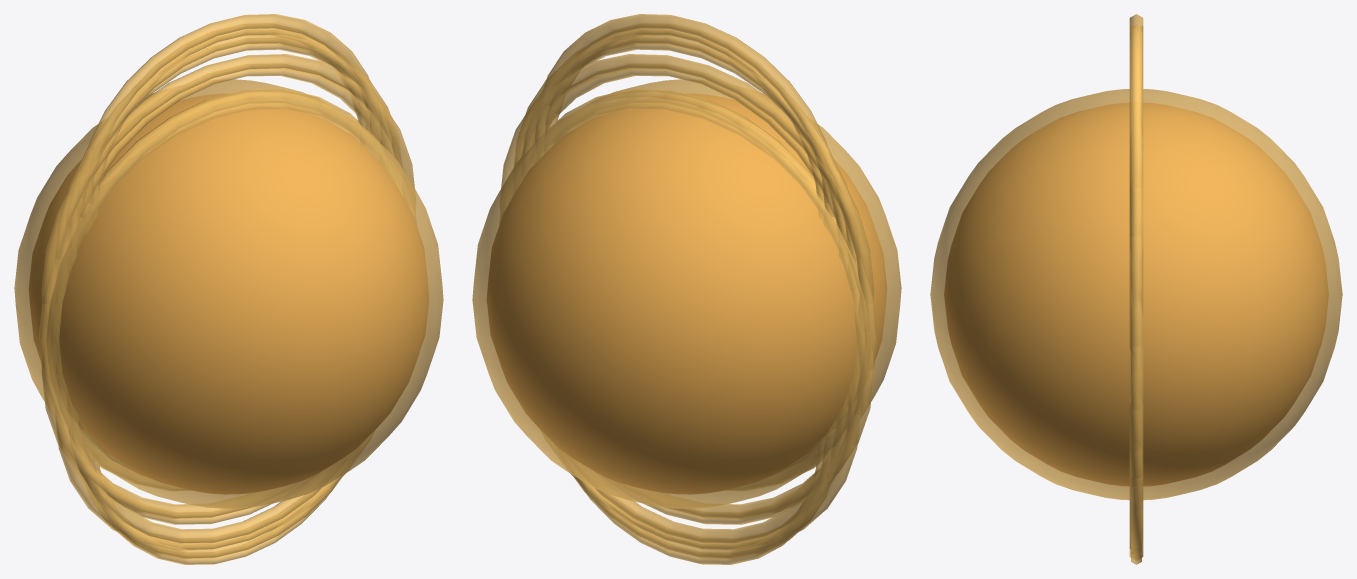
File: Venus.glb
3 renders of one model, left to right at view 1: azimuth 30°, elevation 25°; view 2: azimuth 150°, elevation 25°; view 3: azimuth 270°, elevation 25°, orthographic. The views are drawn at different scales.
Parts seen in each view (by area): view 1: Venus_Atmosphere, Venus_Surface, Venus_Cloud_2_5, Venus_Cloud_2_7, Venus_Cloud_2_6, Venus_Cloud_2_4, Venus_Cloud_1_5, Venus_Cloud_1_6, Venus_Cloud_2_1, Venus_Cloud_1_7, Venus_Cloud_1_2, Venus_Cloud_2_3 (+4 smaller); view 2: Venus_Atmosphere, Venus_Surface, Venus_Cloud_2_5, Venus_Cloud_2_7, Venus_Cloud_2_4, Venus_Cloud_2_6, Venus_Cloud_1_5, Venus_Cloud_1_6, Venus_Cloud_2_1, Venus_Cloud_1_2, Venus_Cloud_2_3, Venus_Cloud_1_7 (+4 smaller); view 3: Venus_Atmosphere, Venus_Surface, Venus_Cloud_2_7, Venus_Cloud_2_5, Venus_Cloud_1_4, Venus_Cloud_2_3, Venus_Cloud_1_6, Venus_Cloud_1_2, Venus_Cloud_2_6, Venus_Cloud_1_7, Venus_Cloud_2_1.
Boxes of the visible parts, x1=… form: Venus_Atmosphere: x1=14, y1=79, x2=443, y2=508; Venus_Surface: x1=29, y1=94, x2=428, y2=494; Venus_Cloud_2_5: x1=41, y1=54, x2=414, y2=355; Venus_Cloud_2_7: x1=80, y1=14, x2=381, y2=235; Venus_Cloud_2_6: x1=68, y1=29, x2=394, y2=266; Venus_Cloud_2_4: x1=55, y1=89, x2=401, y2=476; Venus_Cloud_1_5: x1=60, y1=63, x2=402, y2=279; Venus_Cloud_1_6: x1=55, y1=37, x2=402, y2=262; Venus_Cloud_2_1: x1=80, y1=429, x2=344, y2=558; Venus_Cloud_1_7: x1=88, y1=23, x2=371, y2=222; Venus_Cloud_1_2: x1=55, y1=390, x2=345, y2=550; Venus_Cloud_2_3: x1=41, y1=292, x2=251, y2=518; Venus_Atmosphere: x1=472, y1=79, x2=901, y2=508; Venus_Surface: x1=487, y1=94, x2=886, y2=494; Venus_Cloud_2_5: x1=501, y1=54, x2=874, y2=332; Venus_Cloud_2_7: x1=534, y1=14, x2=835, y2=235; Venus_Cloud_2_4: x1=514, y1=89, x2=859, y2=476; Venus_Cloud_2_6: x1=521, y1=29, x2=847, y2=262; Venus_Cloud_1_5: x1=520, y1=63, x2=854, y2=276; Venus_Cloud_1_6: x1=514, y1=37, x2=860, y2=262; Venus_Cloud_2_1: x1=571, y1=428, x2=835, y2=558; Venus_Cloud_1_2: x1=570, y1=390, x2=860, y2=550; Venus_Cloud_2_3: x1=664, y1=292, x2=874, y2=518; Venus_Cloud_1_7: x1=544, y1=23, x2=827, y2=222; Venus_Atmosphere: x1=930, y1=89, x2=1342, y2=500; Venus_Surface: x1=944, y1=103, x2=1328, y2=486; Venus_Cloud_2_7: x1=1129, y1=14, x2=1143, y2=205; Venus_Cloud_2_5: x1=1129, y1=206, x2=1143, y2=371; Venus_Cloud_1_4: x1=1131, y1=301, x2=1141, y2=450; Venus_Cloud_2_3: x1=1129, y1=372, x2=1143, y2=502; Venus_Cloud_1_6: x1=1131, y1=179, x2=1141, y2=300; Venus_Cloud_1_2: x1=1131, y1=449, x2=1141, y2=549; Venus_Cloud_2_6: x1=1129, y1=125, x2=1143, y2=252; Venus_Cloud_1_7: x1=1131, y1=24, x2=1141, y2=124; Venus_Cloud_2_1: x1=1129, y1=502, x2=1143, y2=560.
Bounding box in the file's own units: 6.46 × 8.79 × 6.32.
